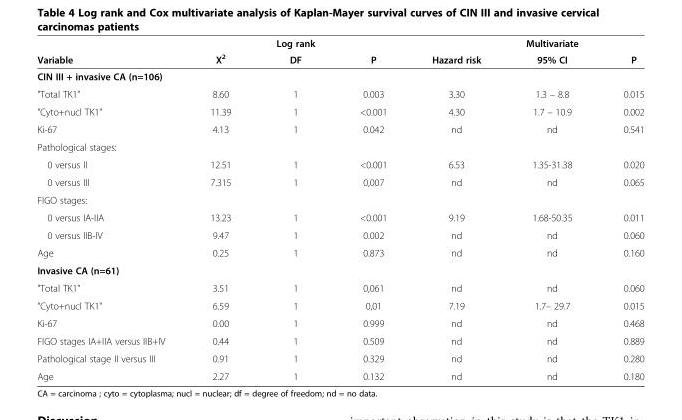table: (36, 37, 643, 381)
table column: (36, 37, 186, 381), (502, 37, 600, 381), (408, 37, 502, 381), (252, 37, 336, 381), (336, 37, 408, 381), (186, 37, 252, 381), (600, 37, 643, 381)
table column header: (36, 37, 643, 67)
table projected row header: (36, 137, 643, 155), (36, 190, 643, 208), (36, 67, 643, 84), (36, 261, 643, 278)
table row: (36, 84, 643, 102), (36, 102, 643, 120), (36, 137, 643, 155), (36, 155, 643, 173), (36, 190, 643, 208), (36, 208, 643, 226), (36, 243, 643, 261), (36, 278, 643, 296), (36, 296, 643, 314), (36, 331, 643, 349), (36, 349, 643, 367), (36, 50, 643, 67), (36, 67, 643, 84), (36, 120, 643, 137), (36, 173, 643, 190), (36, 226, 643, 243), (36, 261, 643, 278), (36, 314, 643, 331), (36, 367, 643, 381), (36, 37, 643, 50)
table spanning cell: (36, 37, 186, 67), (502, 37, 600, 67), (408, 37, 502, 67), (252, 37, 336, 67), (336, 37, 408, 67), (186, 37, 252, 67), (600, 37, 643, 67)
